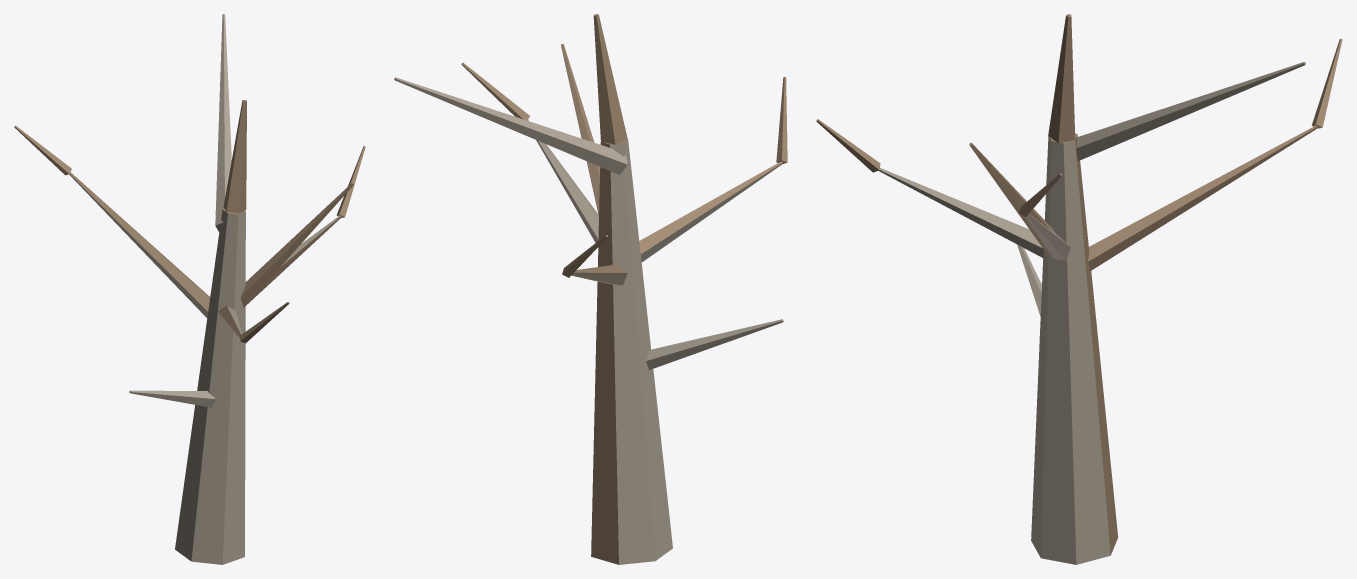
Rendered from tree_dead.glb.
3 views of the same model, side by side, from view 1: azimuth 30°, elevation 25°; view 2: azimuth 150°, elevation 25°; view 3: azimuth 270°, elevation 25° (orthographic). The views are drawn at different scales.
Parts seen in each view (by area): view 1: tree_dead; view 2: tree_dead; view 3: tree_dead.
Boxes of the visible parts, <box> form: tree_dead: <box>14,14,365,564</box>; tree_dead: <box>394,14,787,564</box>; tree_dead: <box>816,14,1342,564</box>.
Size of the model in its own units: 2.43 by 4.07 by 3.53.
